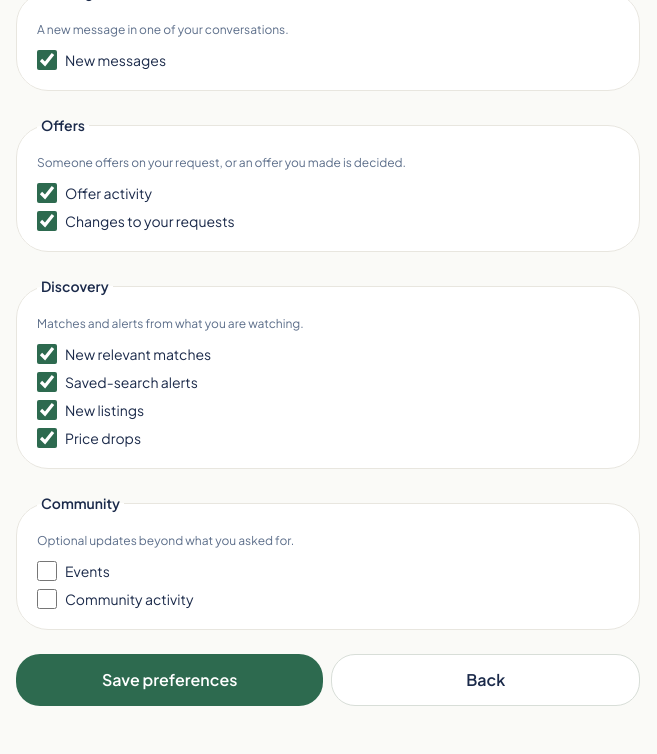
NotificationPreferencesScreen › reports a save failure rather than claiming success
(page scrolled)
Expected: the checkbox labelled "New messages" is shown, [37,50,57,70]
Click the button "Save preferences".
click(170, 680)  # box [16,654,324,706]
(page scrolled)
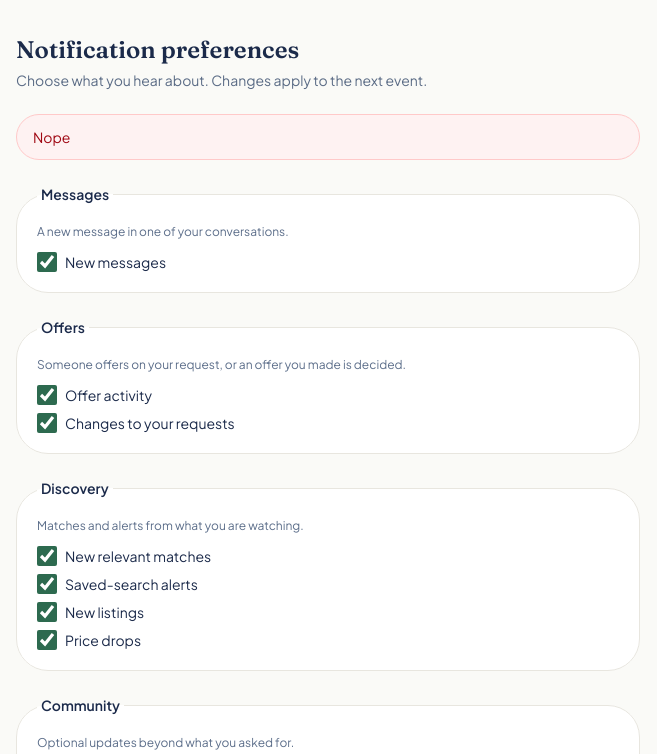
Now the message "Nope" is shown, box [16,114,640,160]
